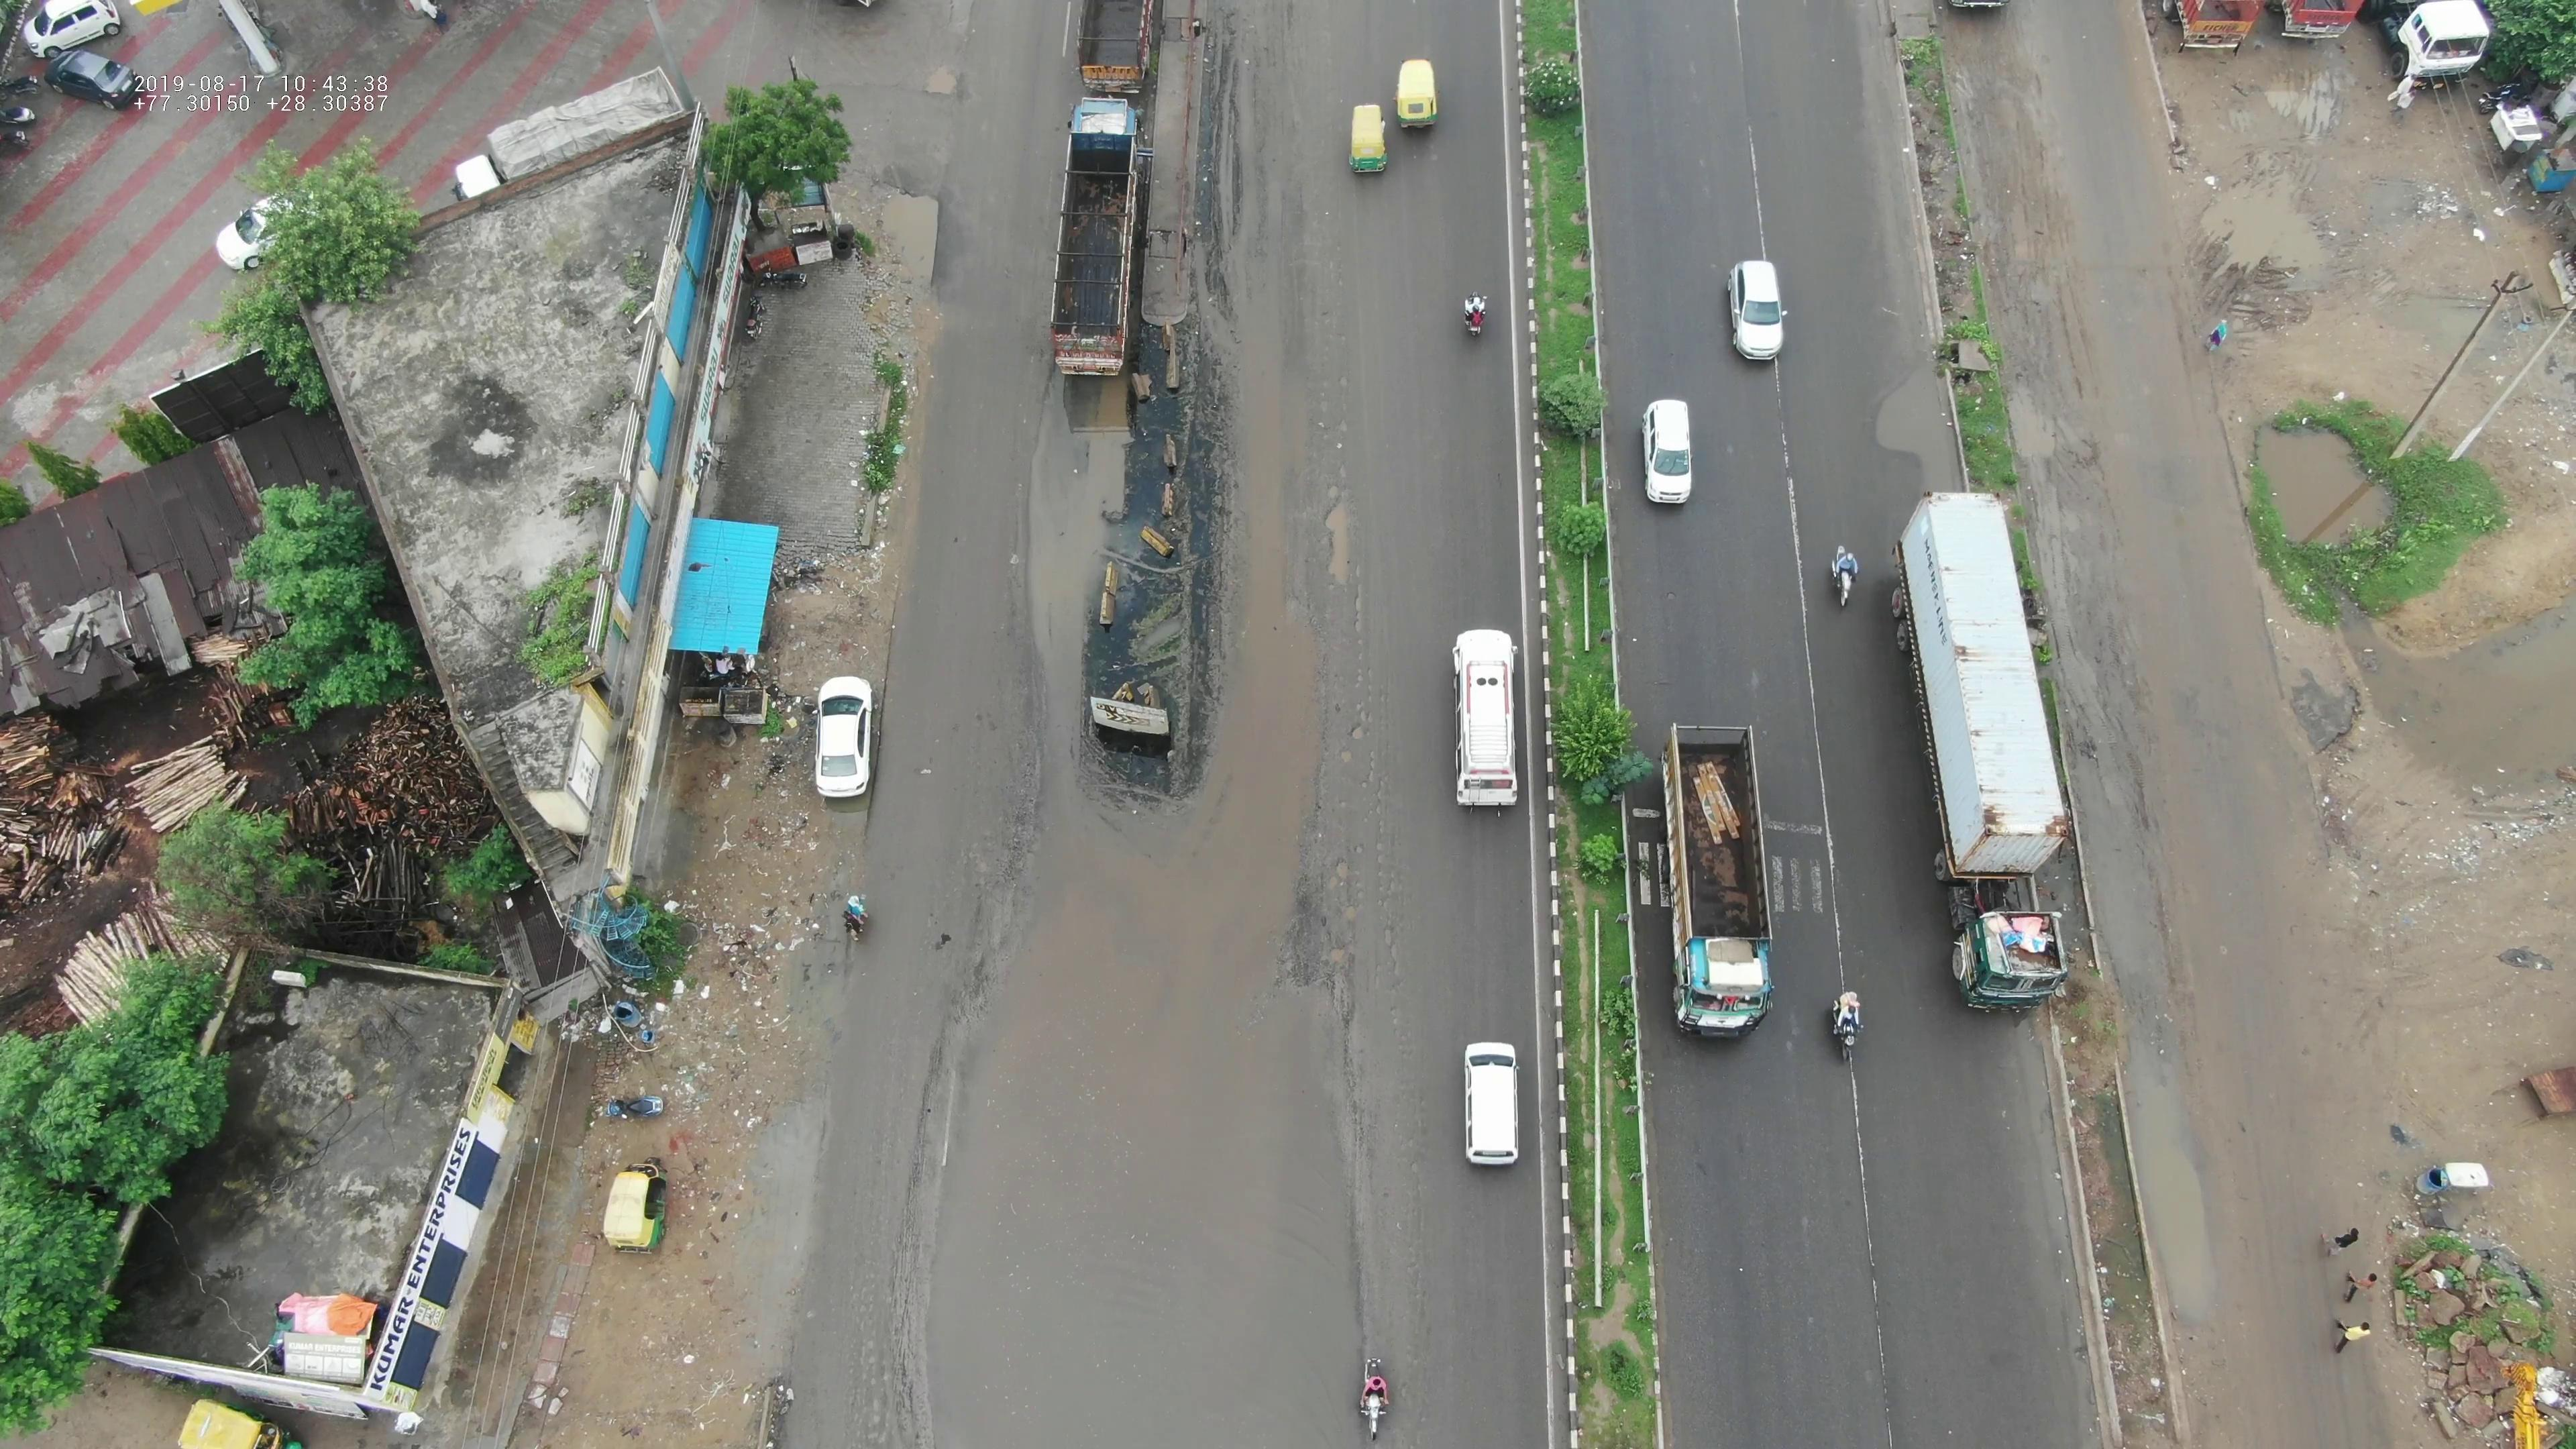Muddy_road: (2052, 568, 2171, 968), (1994, 191, 2118, 543), (1178, 37, 1316, 299)
Potholes: (1323, 356, 1444, 628), (1307, 653, 1407, 966), (1672, 7, 1718, 196)
Waterlogging: (849, 980, 1369, 1419), (964, 366, 1322, 909), (2121, 1017, 2243, 1341), (1826, 345, 1948, 487)
